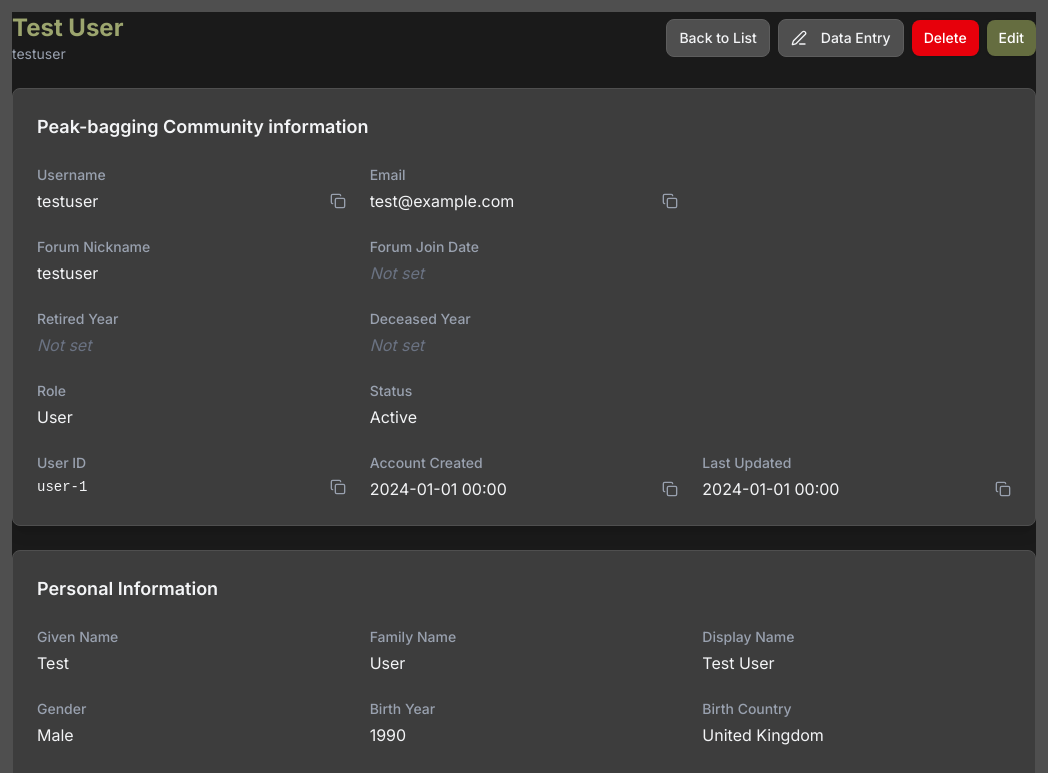
Scenario: UserProfile › validates form before saving
The width and height of the screenshot is (1048, 773).
Step 1. Click the button "Edit" → {"x": 1011, "y": 38}, box [987,20,1036,56]
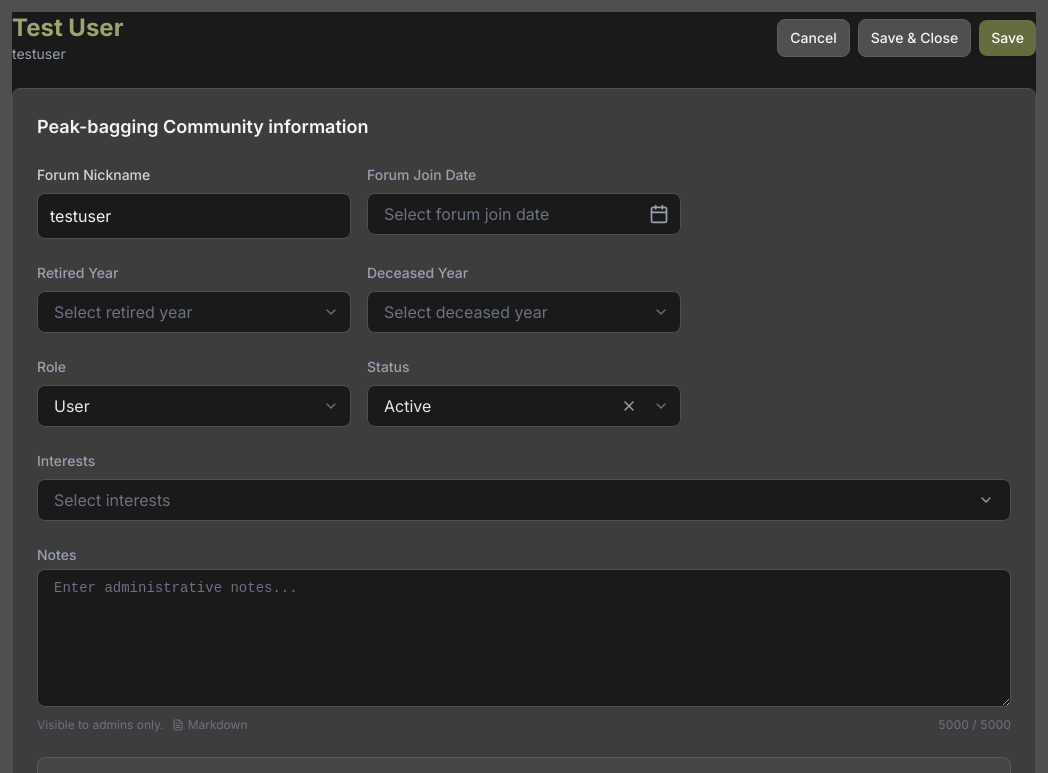
Check: the button "Save" is shown, box [979,20,1036,56]
